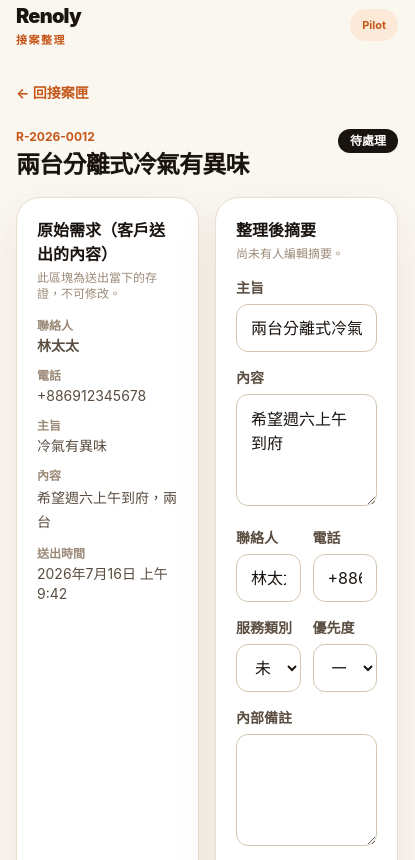
it: PilotRequestDetail › saves an edited summary via PATCH with the current lock version
This screenshot has width=415, height=860.
Replace the text in the field labelled "主旨" with "兩台分離式冷氣異味（整理後）". click: point(306, 328)
box: x1=236 y1=304 x2=377 y2=352
(page scrolled)
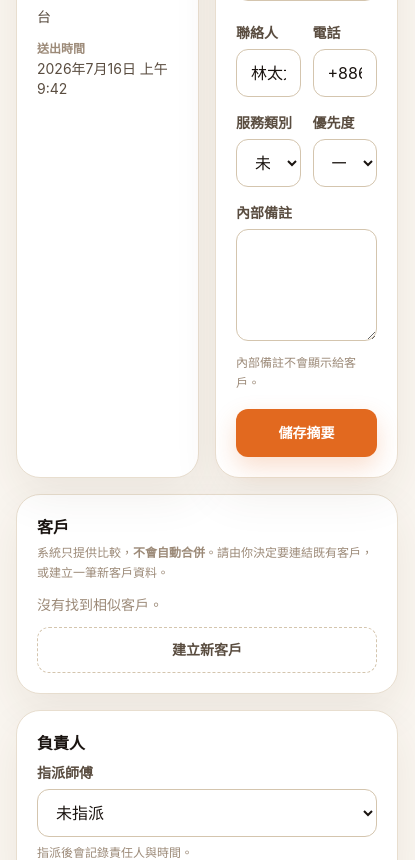
Click the button "儲存摘要". click: point(306, 432)
box: x1=236 y1=408 x2=377 y2=456
(page scrolled)
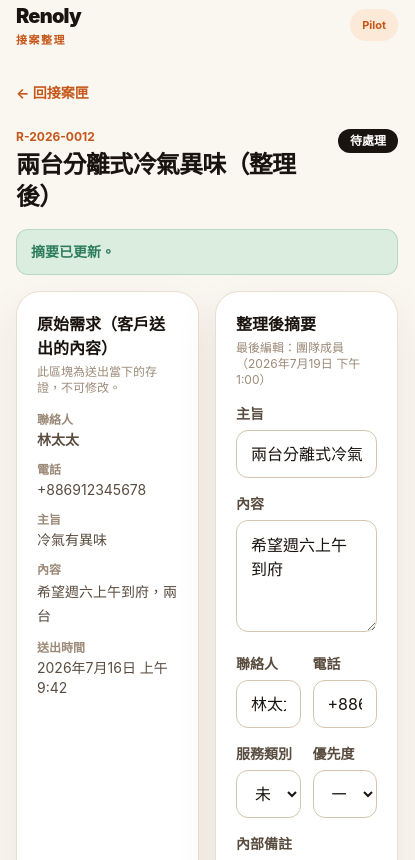
Result: the text "最後編輯：團隊成員（2026年7月19日 下午1:00）" is shown at x1=236 y1=340 x2=377 y2=388
